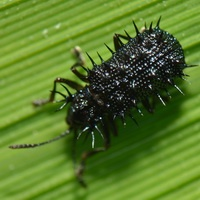insect: (9, 17, 194, 185)
